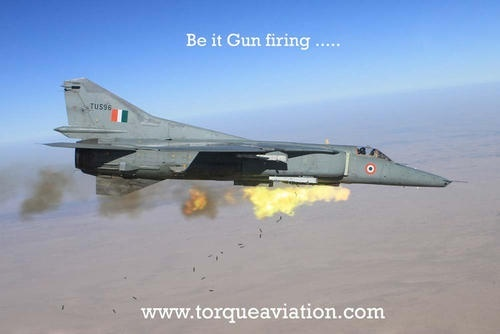fire: (238, 180, 349, 218), (182, 184, 209, 215)
